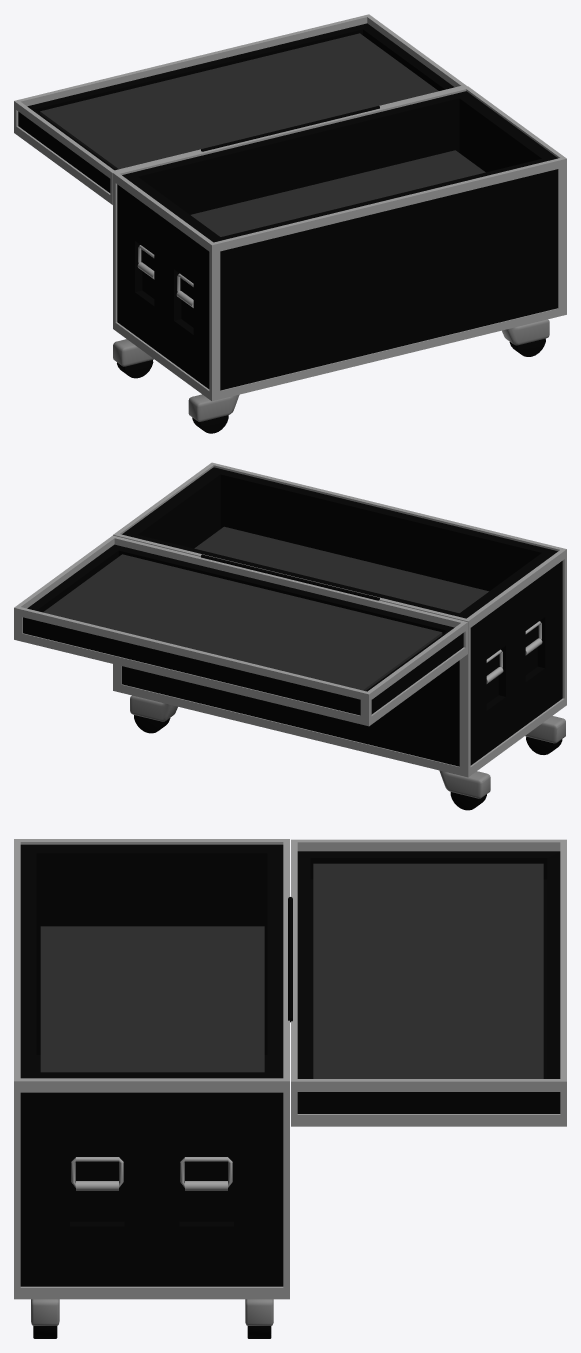
File: Cassa_Flyht.fbx
3 renders of one model, top to bottom at view 1: azimuth 30°, elevation 25°; view 2: azimuth 150°, elevation 25°; view 3: azimuth 270°, elevation 25°, orthographic. The views are drawn at different scales.
Visible parts, largest first — view 1: black_intern, spugna_coperchio, rinforzo_intern, spugna_intern, rinforzo_coperchio, black_coperchio, rota_3.005, rota_3, rota_3.002; view 2: black_intern, spugna_coperchio, rinforzo_coperchio, rinforzo_intern, black_coperchio, spugna_intern, rota_3.002, rota_3.001, rota_3.005; view 3: black_intern, spugna_coperchio, spugna_intern, rinforzo_intern, black_coperchio, rinforzo_coperchio, rota_3, rota_3.001.
Part boxes in pixels (bbox=[...]): black_intern: bbox=[117, 91, 557, 390]; spugna_coperchio: bbox=[40, 33, 438, 169]; rinforzo_intern: bbox=[113, 86, 566, 401]; spugna_intern: bbox=[191, 150, 485, 236]; rinforzo_coperchio: bbox=[14, 14, 467, 204]; black_coperchio: bbox=[18, 23, 454, 192]; rota_3.005: bbox=[188, 394, 239, 433]; rota_3: bbox=[502, 319, 549, 356]; rota_3.002: bbox=[113, 339, 153, 378]; black_intern: bbox=[122, 467, 562, 766]; spugna_coperchio: bbox=[43, 554, 442, 690]; rinforzo_coperchio: bbox=[14, 535, 467, 726]; rinforzo_intern: bbox=[113, 462, 566, 777]; black_coperchio: bbox=[23, 544, 463, 715]; spugna_intern: bbox=[194, 526, 488, 613]; rota_3.002: bbox=[439, 770, 490, 810]; rota_3.001: bbox=[130, 695, 177, 733]; rota_3.005: bbox=[525, 716, 565, 754]; black_intern: bbox=[20, 844, 292, 1286]; spugna_coperchio: bbox=[313, 863, 543, 1078]; spugna_intern: bbox=[40, 926, 264, 1072]; rinforzo_intern: bbox=[14, 839, 289, 1299]; black_coperchio: bbox=[297, 851, 560, 1113]; rinforzo_coperchio: bbox=[291, 839, 566, 1126]; rota_3: bbox=[31, 1299, 59, 1338]; rota_3.001: bbox=[245, 1299, 273, 1338].
Bounding box in the file's own units: 122 × 64.14 × 116.
Materials: 4 (1 with a texture image).
